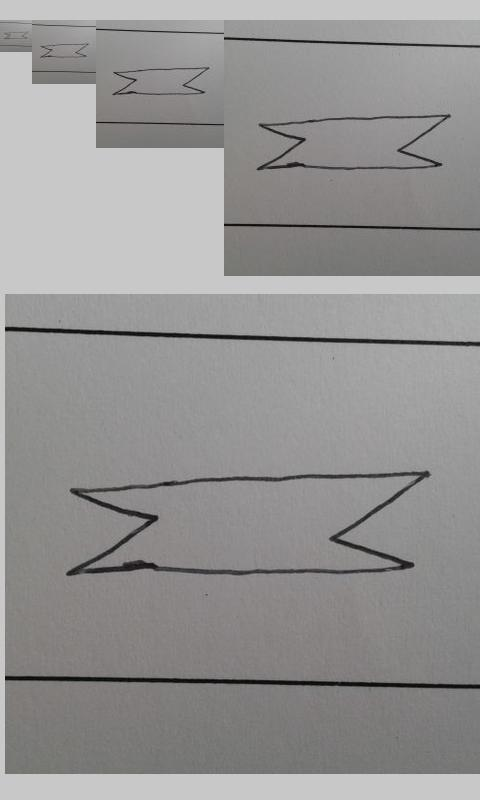edit_text: (63, 469, 430, 579), (258, 114, 452, 171), (112, 67, 209, 95), (40, 43, 88, 58), (3, 31, 29, 40)
